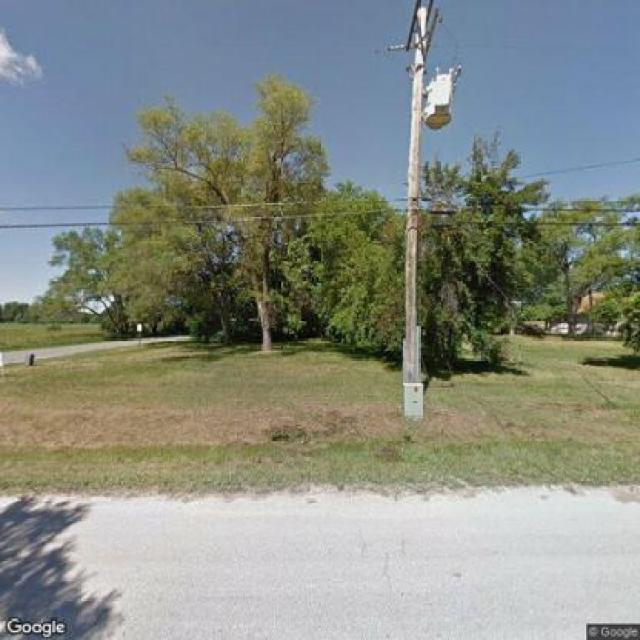pole: (386, 1, 457, 414)
